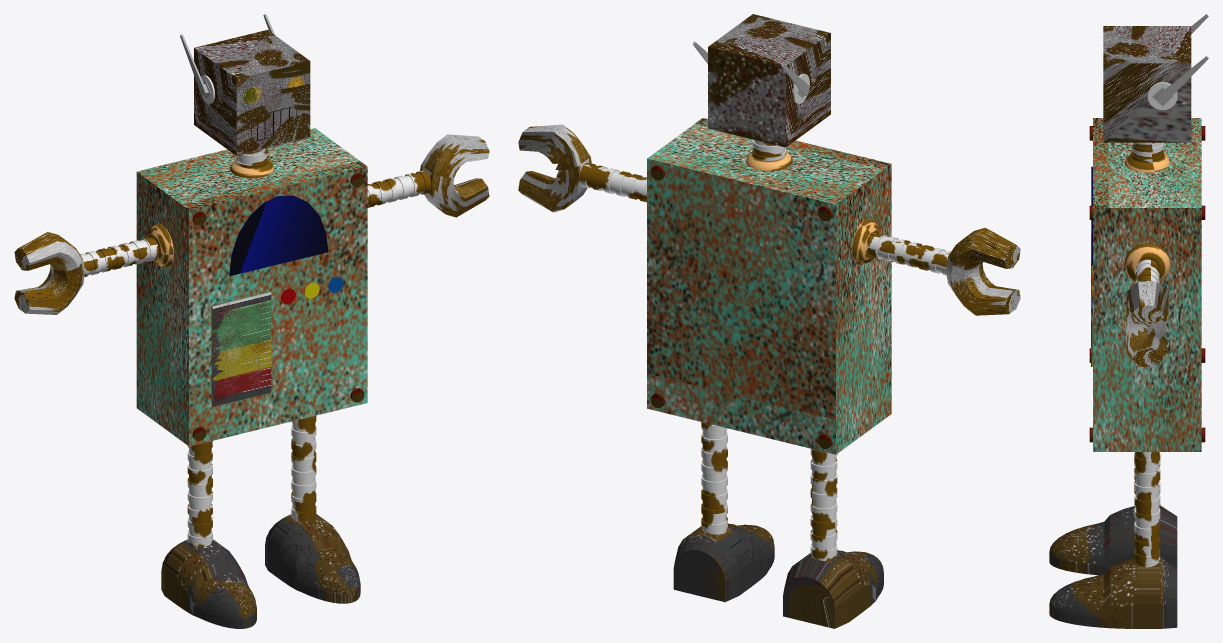
Rendered from robotold.fbx.
3 views of the same model, side by side, from view 1: azimuth 30°, elevation 25°; view 2: azimuth 150°, elevation 25°; view 3: azimuth 270°, elevation 25° (orthographic). The views are drawn at different scales.
Parts seen in each view (by area): view 1: pCube1, pCube2, pCube6, pSphere3, pSphere2, pCylinder15, pTorus2, pTorus1, pCylinder5, pCylinder4, pCylinder3, pCylinder2 (+1 smaller); view 2: pCube1, pCube2, pSphere2, pSphere3, pTorus2, pTorus1, pCylinder4, pCylinder5, pCylinder3, pCylinder2, pSphere5; view 3: pCube1, pCube2, pSphere2, pSphere3, pTorus1, pCylinder5, pSphere6, pCube5, pCylinder6, pSphere4, pCylinder2.
Part boxes in pixels (x1,y1,x2,y2): pCube1: [136, 128, 367, 446]; pCube2: [194, 30, 310, 155]; pCube6: [211, 291, 271, 406]; pSphere3: [161, 539, 256, 628]; pSphere2: [265, 514, 360, 603]; pCylinder15: [229, 195, 328, 275]; pTorus2: [14, 232, 84, 314]; pTorus1: [420, 134, 489, 217]; pCylinder5: [291, 415, 316, 521]; pCylinder4: [187, 441, 212, 547]; pCylinder3: [80, 237, 158, 276]; pCylinder2: [367, 170, 431, 207]; pCube1: [647, 118, 891, 454]; pCube2: [708, 14, 830, 147]; pSphere2: [673, 523, 774, 602]; pSphere3: [783, 550, 883, 628]; pTorus2: [946, 227, 1020, 315]; pTorus1: [518, 124, 591, 212]; pCylinder4: [810, 448, 837, 561]; pCylinder5: [701, 422, 727, 534]; pCylinder3: [867, 233, 951, 275]; pCylinder2: [579, 162, 646, 202]; pSphere5: [852, 219, 879, 264]; pCube1: [1093, 118, 1201, 451]; pCube2: [1103, 26, 1191, 142]; pSphere2: [1049, 557, 1177, 628]; pSphere3: [1049, 505, 1177, 575]; pTorus1: [1126, 281, 1168, 366]; pCylinder5: [1134, 452, 1160, 567]; pSphere6: [1124, 243, 1170, 281]; pCube5: [1147, 56, 1208, 110]; pCylinder6: [1130, 142, 1163, 162]; pSphere4: [1124, 154, 1170, 172]; pCylinder2: [1135, 259, 1159, 283].
Bounding box in the file's own units: 35.57 × 39.65 × 10.34.
